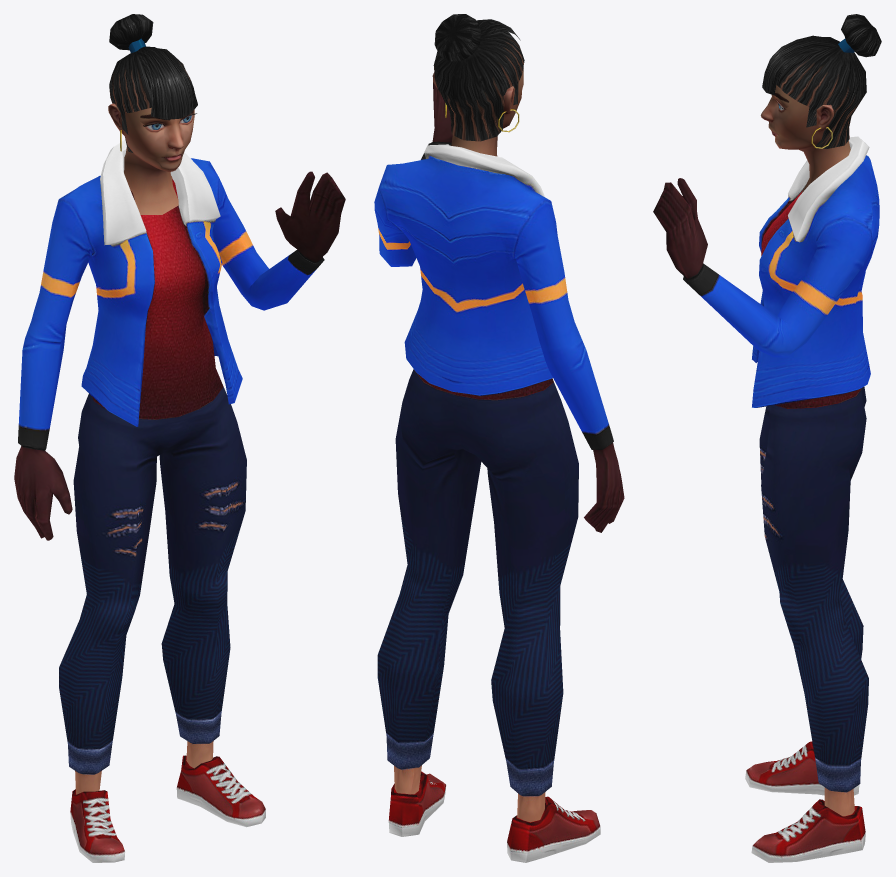
3 renders of one model, left to right at view 1: azimuth 30°, elevation 25°; view 2: azimuth 150°, elevation 25°; view 3: azimuth 270°, elevation 25°, orthographic. The views are drawn at different scales.
Parts seen in each view (by area): view 1: G1_top, G1_Down, G1_hair, G1_head; view 2: G1_Down, G1_top, G1_hair, G1_head; view 3: G1_Down, G1_top, G1_hair, G1_head.
Boxes of the visible parts, x1,y1,x2,y2 form: G1_top: (14, 139, 345, 540); G1_Down: (59, 387, 265, 862); G1_hair: (109, 14, 197, 152); G1_head: (108, 103, 196, 214); G1_Down: (377, 369, 600, 862); G1_top: (374, 82, 624, 532); G1_hair: (433, 14, 524, 141); G1_head: (432, 67, 523, 156); G1_Down: (745, 386, 868, 862); G1_top: (653, 136, 879, 408); G1_hair: (762, 14, 881, 148); G1_head: (760, 85, 850, 193).
Size of the model in its own units: 0.5669 by 1.72 by 0.4433.
4 materials, 4 textured.
